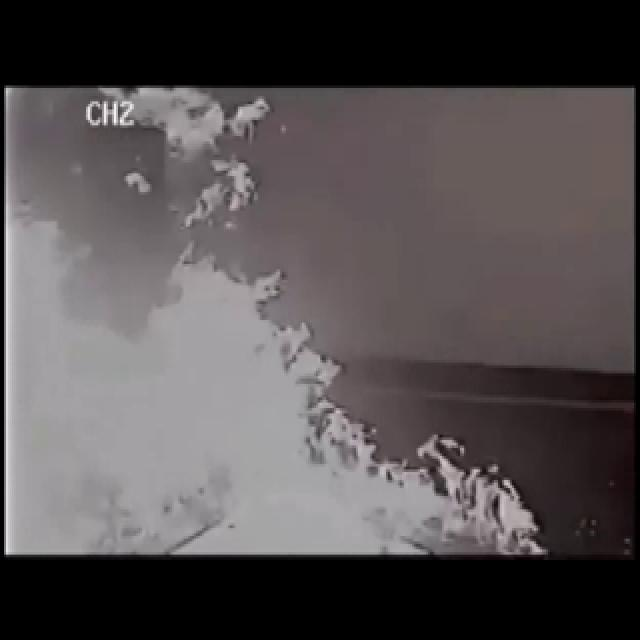arson: (10, 98, 554, 550), (11, 94, 267, 477)
